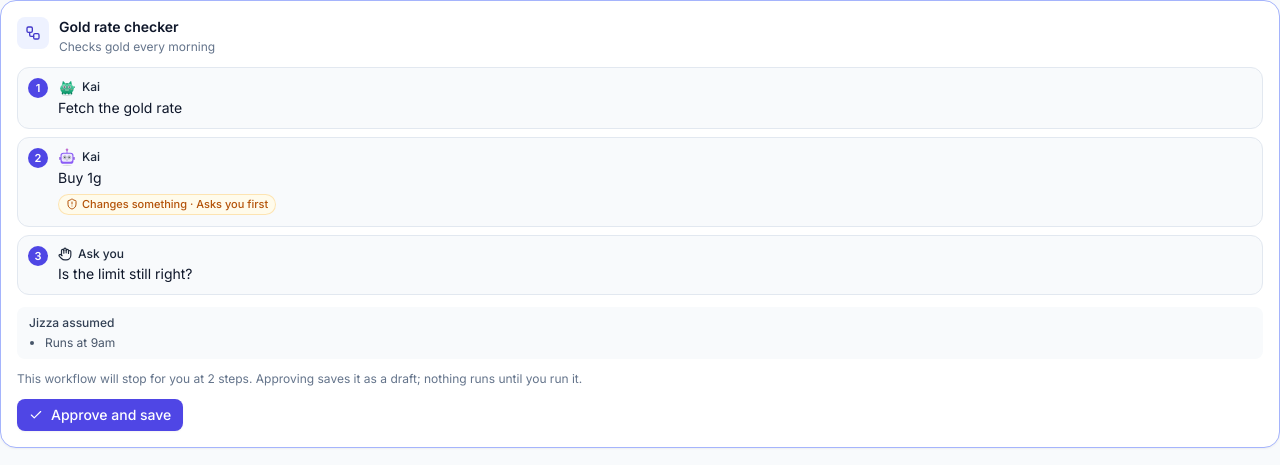
it: WorkflowPlanCard › saves nothing until approved, then saves the plan as a workflow graph once
Click the button "Approve and save": (100, 415) [17,399,183,431]
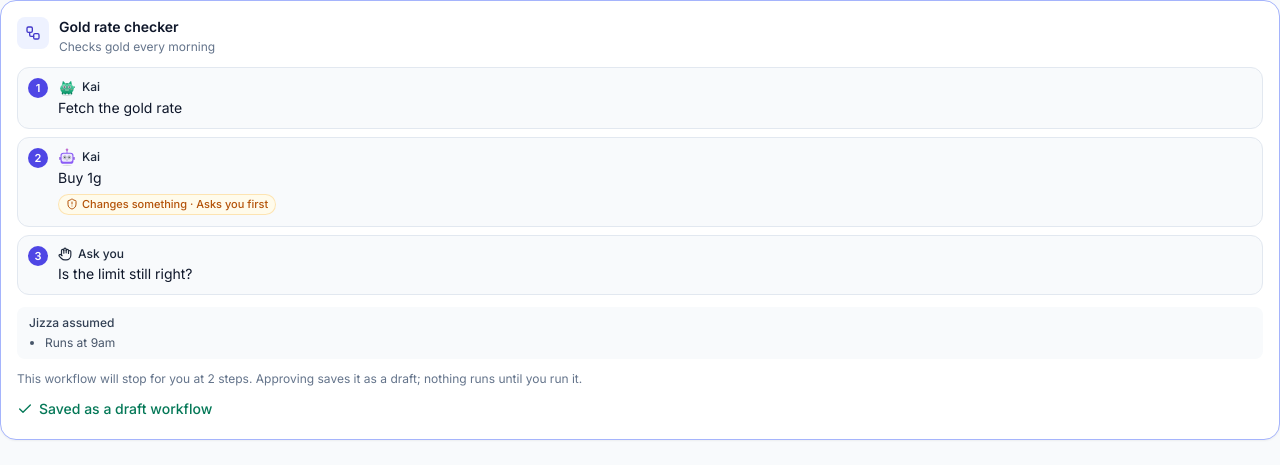
Check: the text "Gold rate checker" is shown, box [59,18,179,35]
Check: the text "Saved as a draft workflow" is shown, box [17,399,212,419]
Check: the button "Approve and save" is gone
